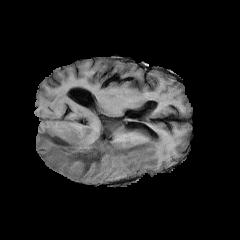glioma: (36, 109, 162, 178)
